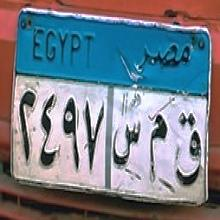2: (18, 88, 38, 160)
4: (40, 94, 57, 168)
7: (83, 101, 108, 167)
9: (62, 94, 80, 170)
meem: (146, 113, 170, 177)
qaaf: (174, 112, 199, 188)
seen: (110, 122, 142, 164)
